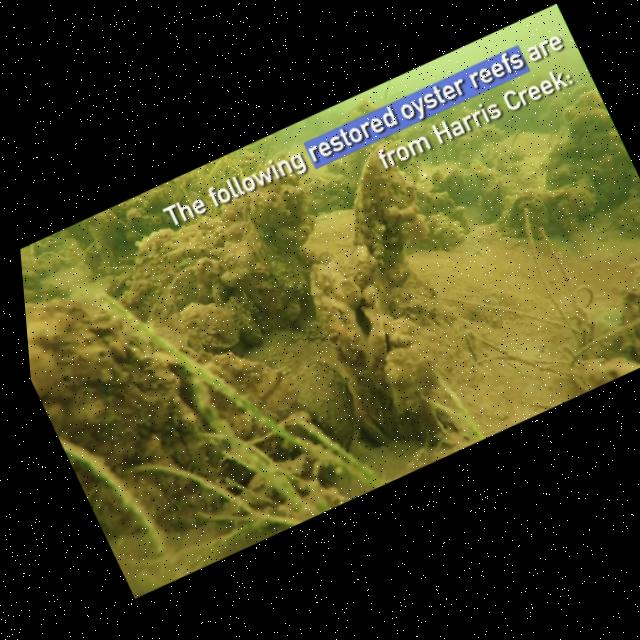Oyster-Closed: (287, 250, 445, 449), (206, 276, 240, 312)
Oyster-Indeterminate: (21, 240, 251, 544), (162, 318, 325, 482), (327, 140, 446, 278), (265, 344, 375, 468), (170, 280, 269, 378), (241, 178, 329, 264), (528, 168, 606, 232), (409, 156, 489, 212), (252, 246, 321, 309), (77, 201, 143, 261), (214, 256, 269, 298), (20, 244, 61, 295), (610, 279, 640, 347), (615, 239, 640, 309), (624, 266, 640, 362)
Oyster-Open: (494, 178, 574, 252)
